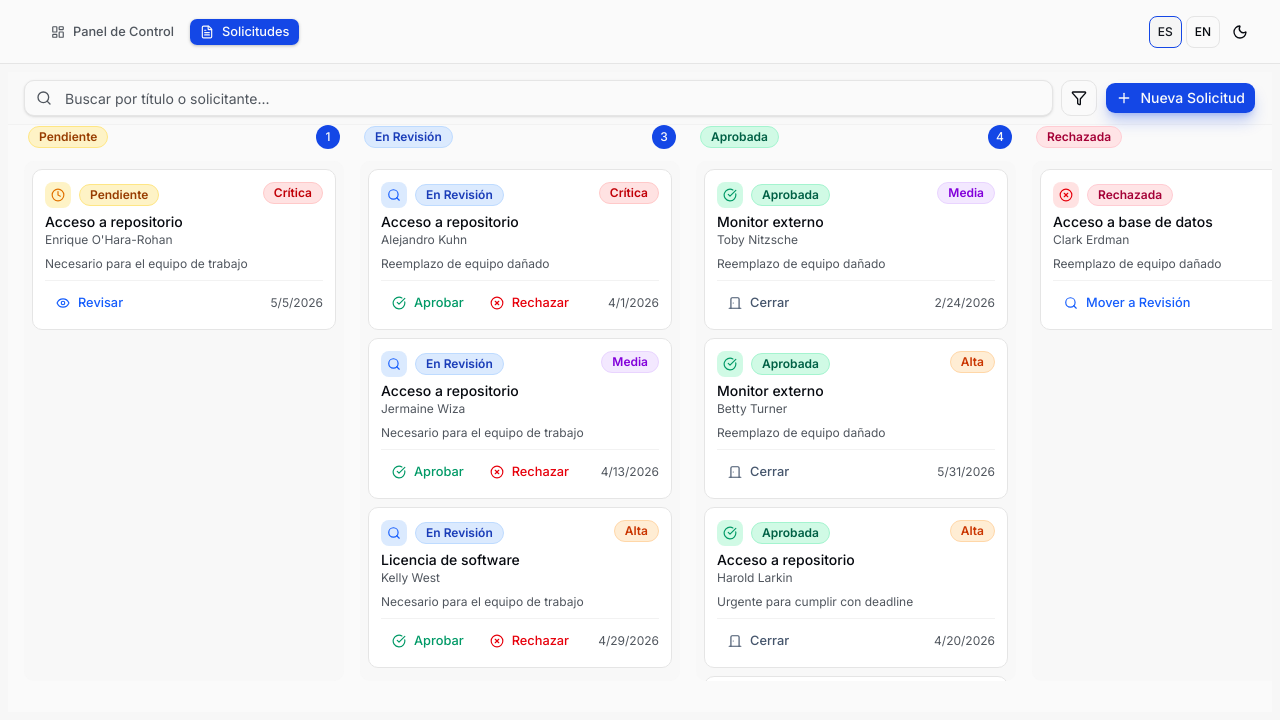
Scenario: Kanban Board › debería abrir el modal de detalle al hacer clic en una tarjeta
What coordinates should you click on to do the following:
click the element with test id "kanban-card"
I would click on:
 (184, 250)
Its box is [32,169,336,330].
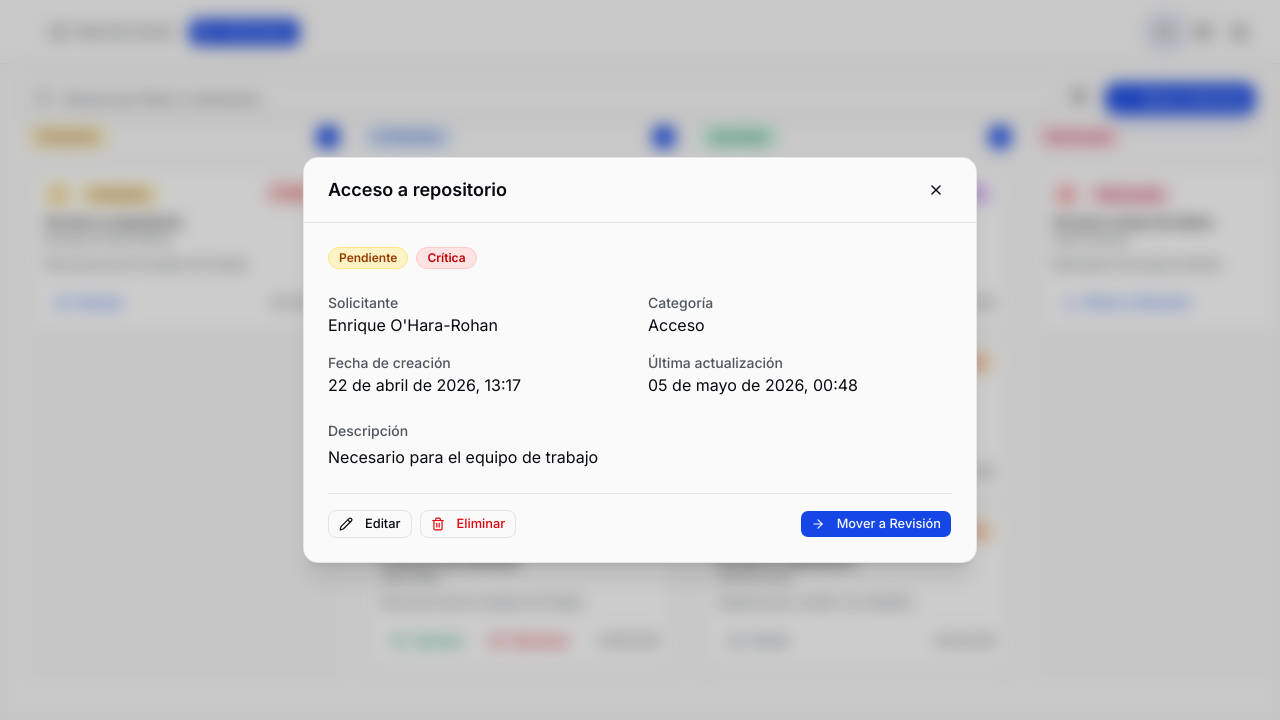
Check: the element with test id "solicitud-modal" is shown, box [304,158,976,562]
